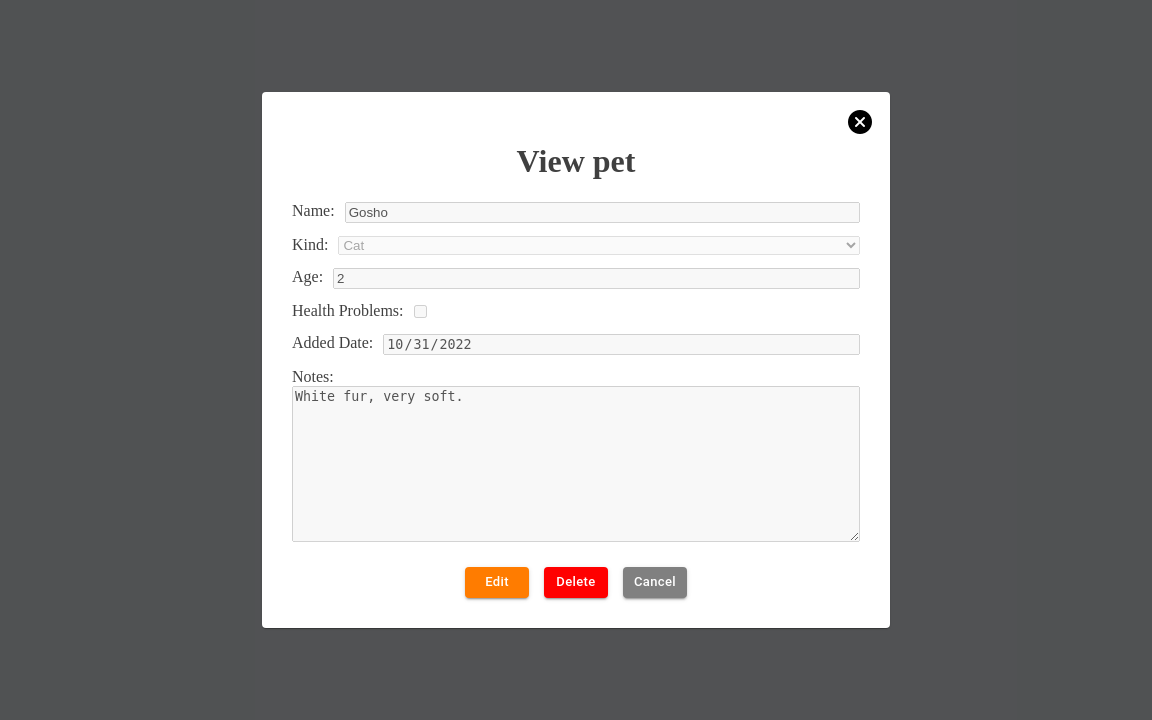
Test: transitions back to display mode when the cancel button is clicked
Step 1. Click the button "Edit" → click(497, 583), box [465, 567, 529, 598]
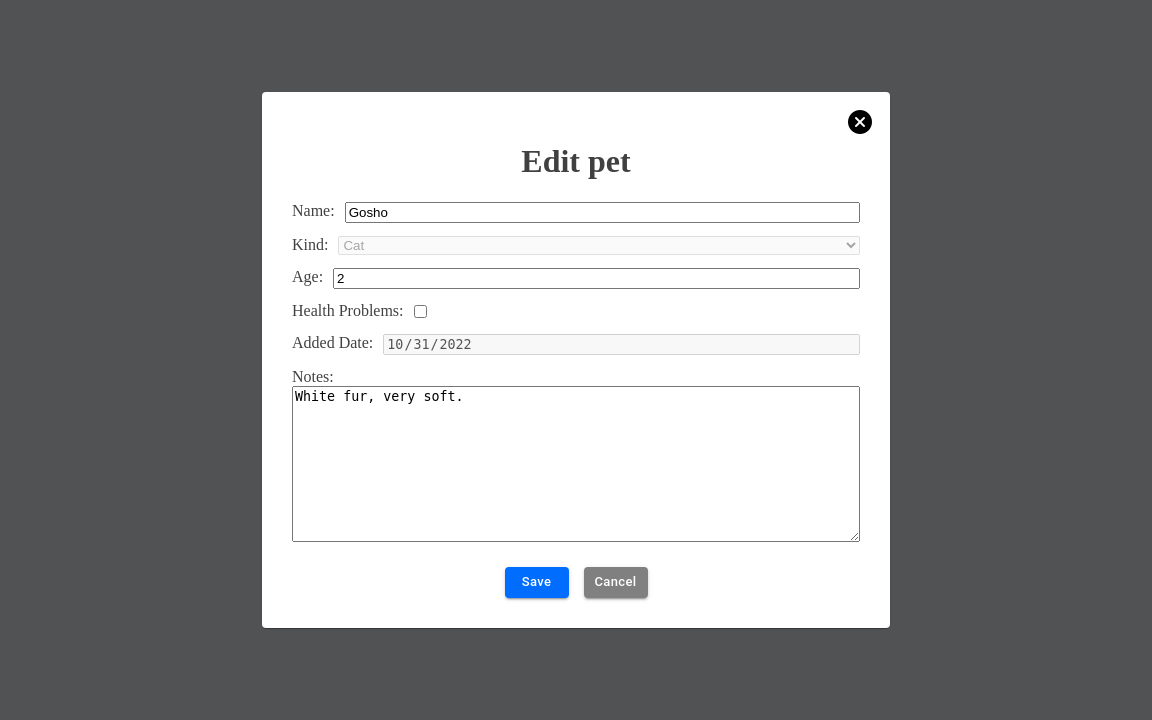
Result: the heading "Edit pet" is shown at [521, 144, 631, 180]
Step 2. Click the button "Cancel" → click(616, 583), box [584, 567, 648, 598]
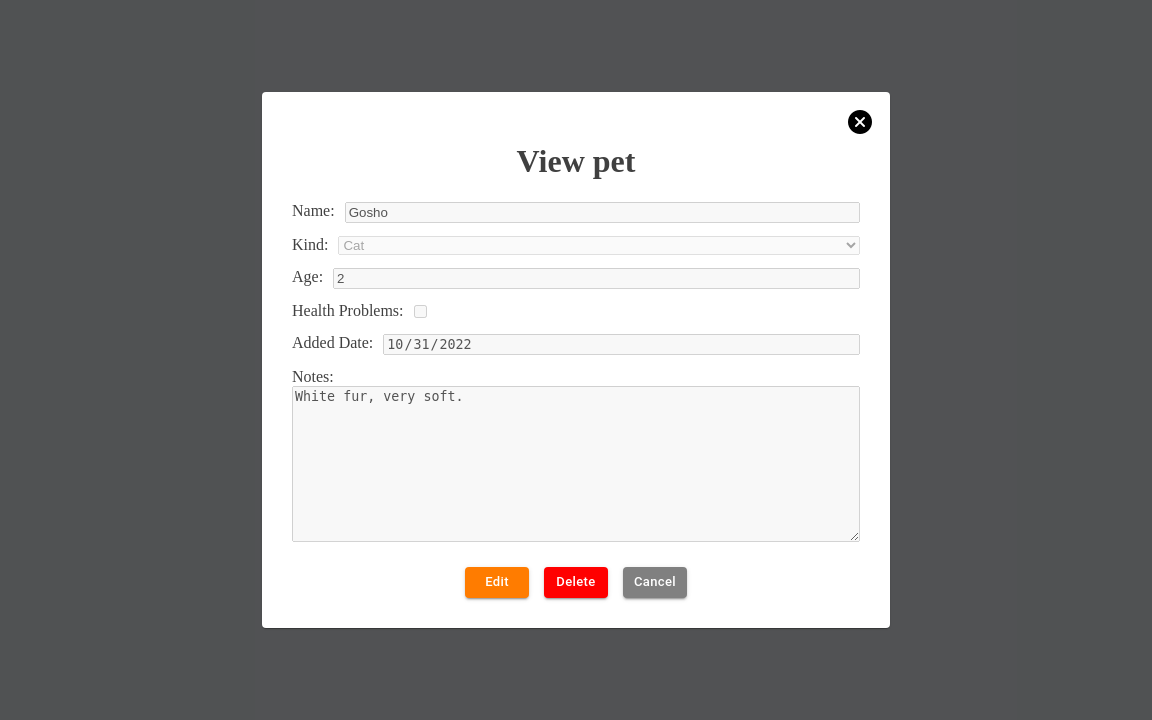
Result: the heading "View pet" is shown at [517, 144, 635, 180]
Result: the button "Delete" is enabled at [544, 567, 608, 598]
Result: the field labelled "Name:" is disabled at [345, 202, 860, 223]
